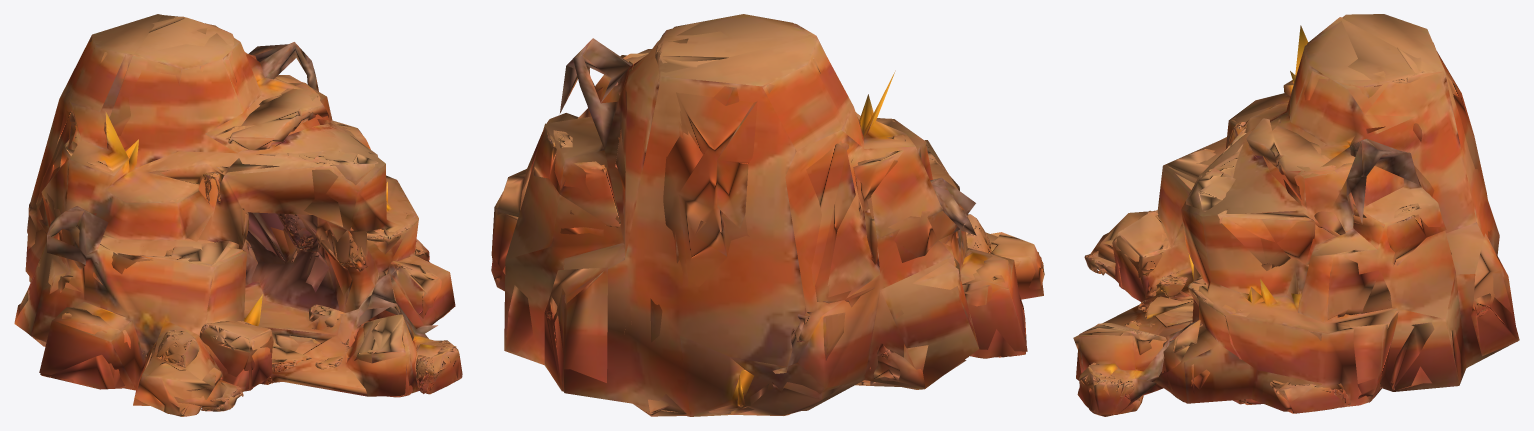
Rendered from lair_earth.glb.
The picture shows the model from 3 angles, left to right: view 1: azimuth 30°, elevation 25°; view 2: azimuth 150°, elevation 25°; view 3: azimuth 270°, elevation 25°; orthographic projection. The views are drawn at different scales.
Visible parts, largest first — view 1: Mesh_0; view 2: Mesh_0; view 3: Mesh_0.
Boxes of the visible parts, box(x1,y1,x2,y2) form: Mesh_0: box(14, 14, 462, 416); Mesh_0: box(491, 14, 1044, 416); Mesh_0: box(1073, 14, 1519, 416).
Bounding box in the file's own units: 2.95 × 1.99 × 2.74.
Materials: 1 (1 with a texture image).
